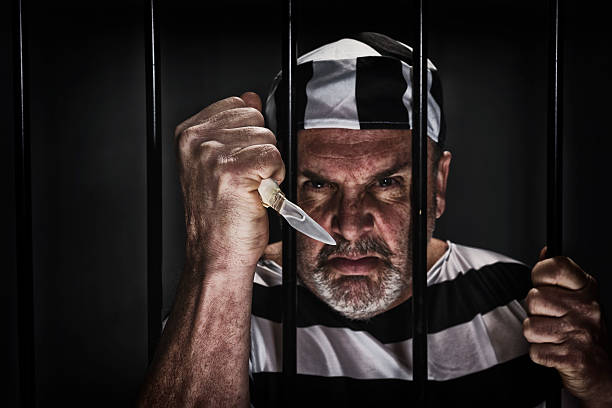knife: (257, 177, 340, 246)
